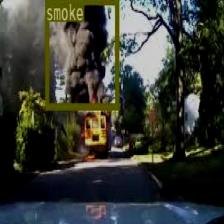smoke: (44, 0, 118, 108)
